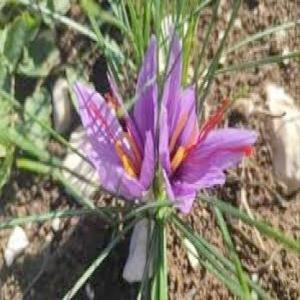Saffron: (161, 31, 256, 212), (67, 42, 155, 198)
